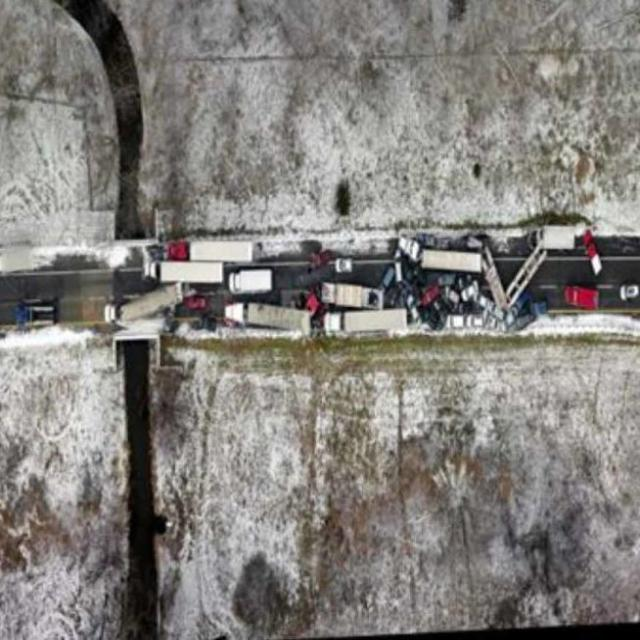traffic_incident: (364, 256, 525, 330)
